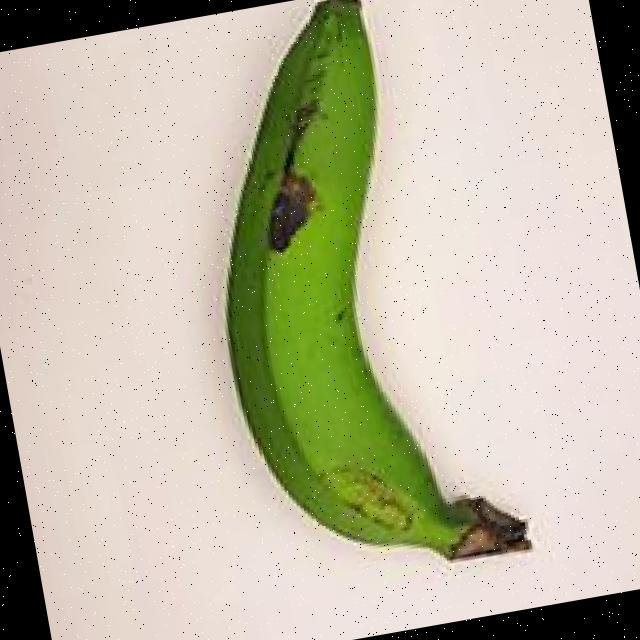Raw: (124, 0, 565, 620)
